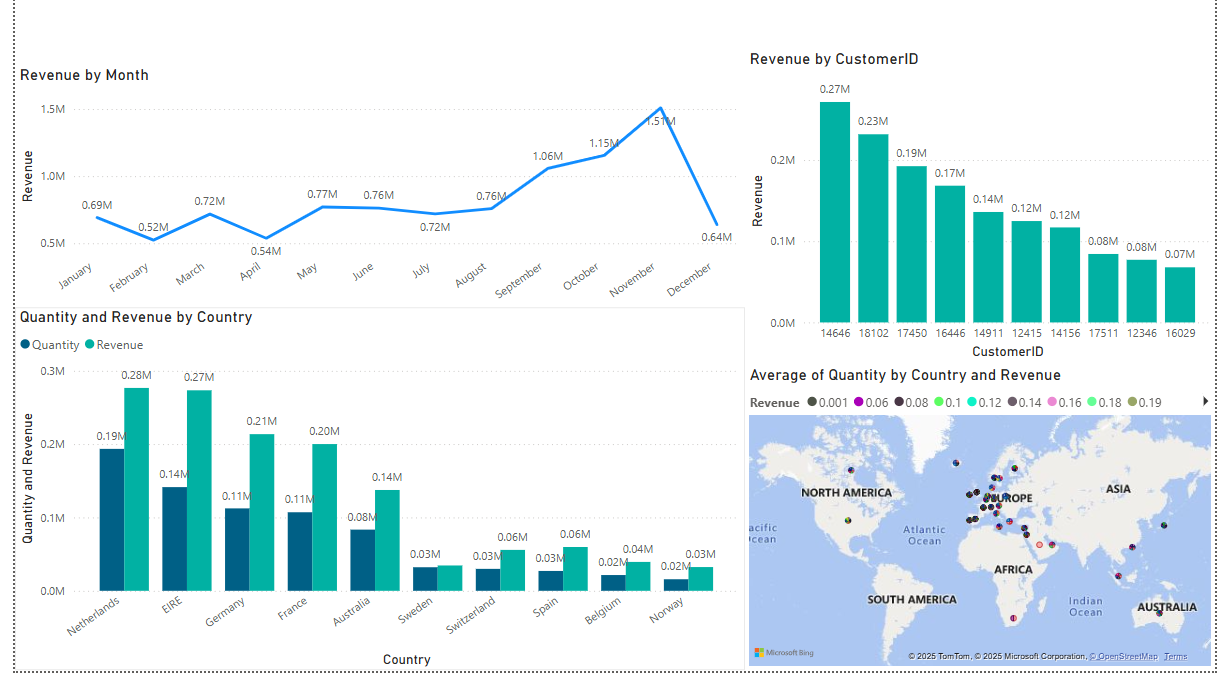

Layout of this report page (visuals, bound fields, positions):
{"tool":"powerbi","page":{"name":"Page 1","canvas":[1280,720],"ordinal":0},"visuals":[{"type":"lineChart","fields":{"Y":["Sum(Online Retail.Revenue)"],"Category":["Online Retail.InvoiceDate.Variation.Date Hierarchy.Month"]},"box":[0,72.7,778,286.8],"z":0},{"type":"clusteredColumnChart","fields":{"Y":["Sum(Online Retail.Quantity)","Sum(Online Retail.Revenue)"],"Category":["Online Retail.Country"]},"box":[0,332.1,778,388.3],"z":1},{"type":"columnChart","fields":{"Category":["Online Retail.CustomerID"],"Y":["Sum(Online Retail.Revenue)"]},"box":[778,56.3,502.2,336.2],"z":2},{"type":"map","fields":{"Category":["Online Retail.Country"],"Series":["Online Retail.Revenue"],"Y":["Avg(Online Retail.Quantity)"]},"box":[778,393,502,327],"z":3},{"type":"textbox","box":[0,0,1280.3,56.3],"z":4}]}

Visuals, with their boxes in screenshot pixels (x1, y1, x2, y2), scaled from the page's 1280x720 canvas onto the 1229x680 screenshot:
lineChart - Sum(Online Retail.Revenue) x Online Retail.InvoiceDate.Variation.Date Hierarchy.Month: (left=0, top=69, right=747, bottom=340)
clusteredColumnChart - Sum(Online Retail.Quantity) x Sum(Online Retail.Revenue): (left=0, top=314, right=747, bottom=679)
columnChart - Online Retail.CustomerID x Sum(Online Retail.Revenue): (left=747, top=53, right=1228, bottom=371)
map - Online Retail.Country x Online Retail.Revenue: (left=747, top=371, right=1228, bottom=679)
textbox: (left=0, top=0, right=1228, bottom=53)
